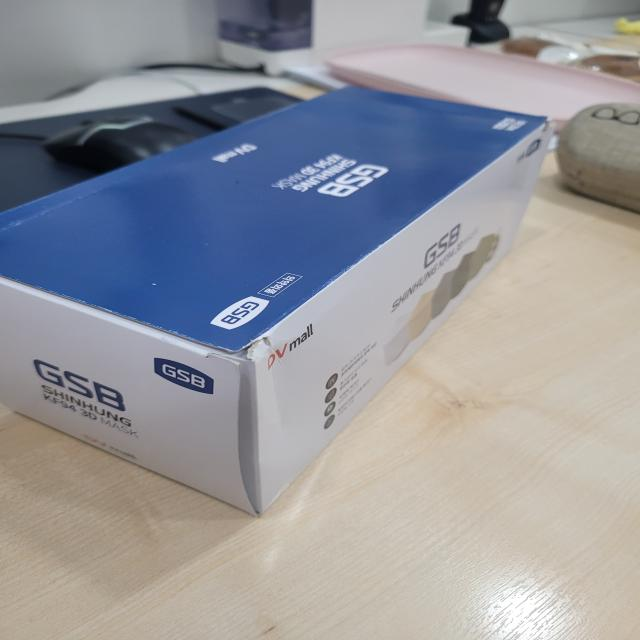mask: (0, 75, 640, 534)
